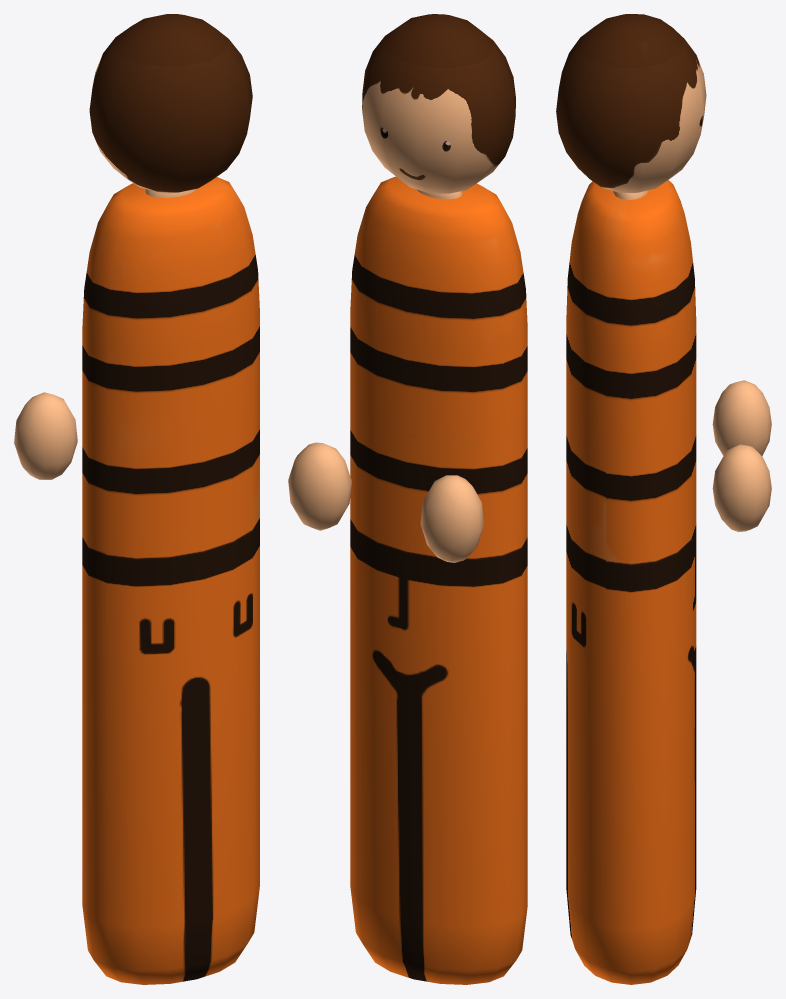
Rendered from hider_standing_body.glb.
3 renders of one model, left to right at view 1: azimuth 30°, elevation 25°; view 2: azimuth 150°, elevation 25°; view 3: azimuth 270°, elevation 25°, orthographic.
Visible parts, largest first — view 1: hider_standing; view 2: hider_standing; view 3: hider_standing.
Part boxes in pixels (box(x1,y1,x2,y2)): hider_standing: box(14, 14, 259, 984); hider_standing: box(288, 14, 527, 984); hider_standing: box(556, 14, 771, 984).
Size of the model in its own units: 0.3496 by 1.67 by 0.3492.
1 material, 1 textured.
